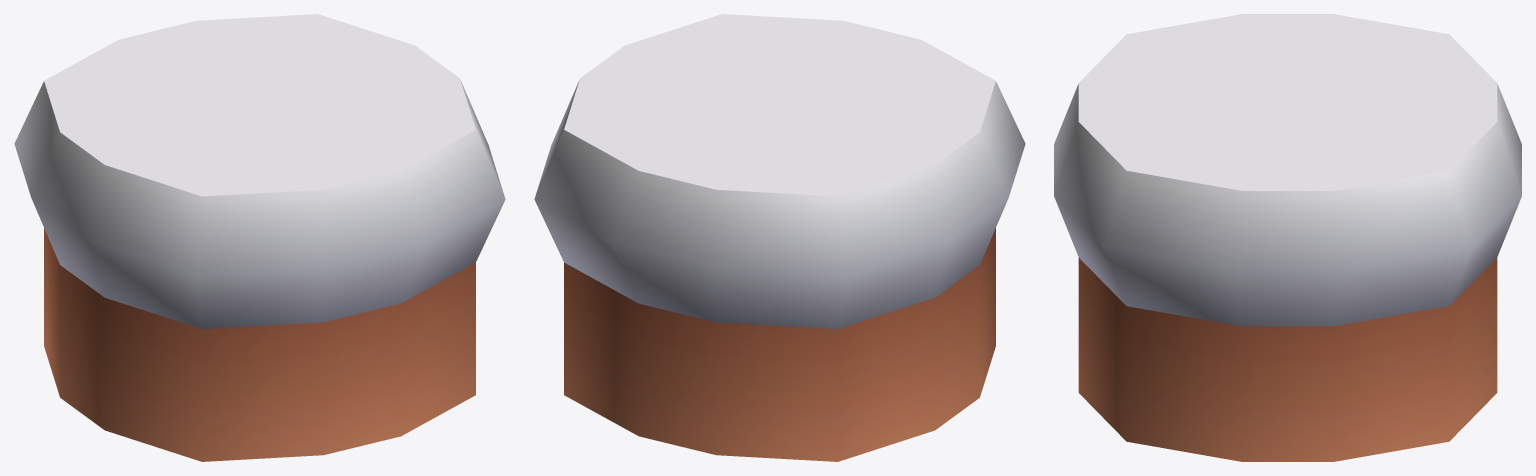
Rendered from kenney-platformer-block-snow-low-narrow.glb.
The picture shows the model from 3 angles, left to right: view 1: azimuth 30°, elevation 25°; view 2: azimuth 150°, elevation 25°; view 3: azimuth 270°, elevation 25°; orthographic projection. The views are drawn at different scales.
Visible parts, largest first — view 1: block-snow-low-narrow; view 2: block-snow-low-narrow; view 3: block-snow-low-narrow.
Boxes of the visible parts, left/top/right/bottom form: block-snow-low-narrow: left=14, top=14, right=505, bottom=461; block-snow-low-narrow: left=534, top=14, right=1025, bottom=461; block-snow-low-narrow: left=1054, top=14, right=1521, bottom=461.
Size of the model in its own units: 0.7821 by 0.5 by 0.7821.
1 material, 1 textured.
